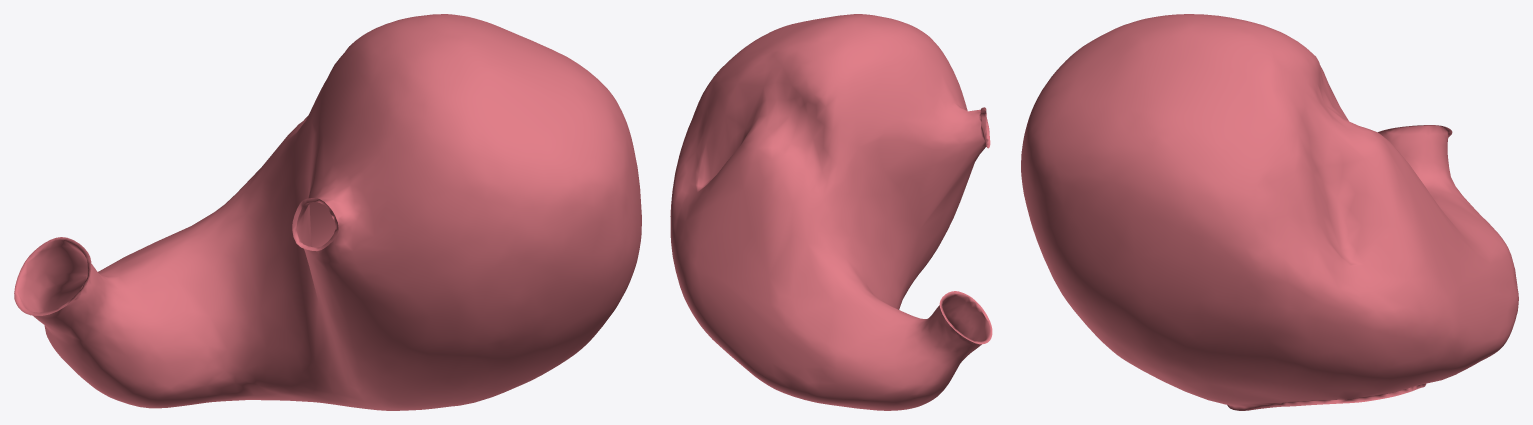
The picture shows the model from 3 angles, left to right: view 1: azimuth 30°, elevation 25°; view 2: azimuth 150°, elevation 25°; view 3: azimuth 270°, elevation 25°; orthographic projection. The views are drawn at different scales.
Visible parts, largest first — view 1: 胃黏膜; view 2: 胃黏膜; view 3: 胃黏膜.
Part boxes in pixels (left/top/right/bottom): 胃黏膜: left=14, top=14, right=641, bottom=410; 胃黏膜: left=670, top=14, right=992, bottom=410; 胃黏膜: left=1021, top=14, right=1518, bottom=410.
Bounding box in the file's own units: 0.1962 × 0.1522 × 0.1819.
